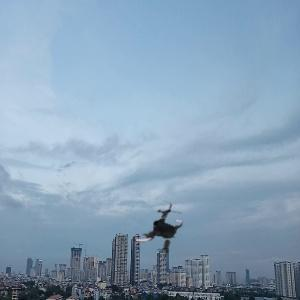drone: (125, 198, 190, 263)
